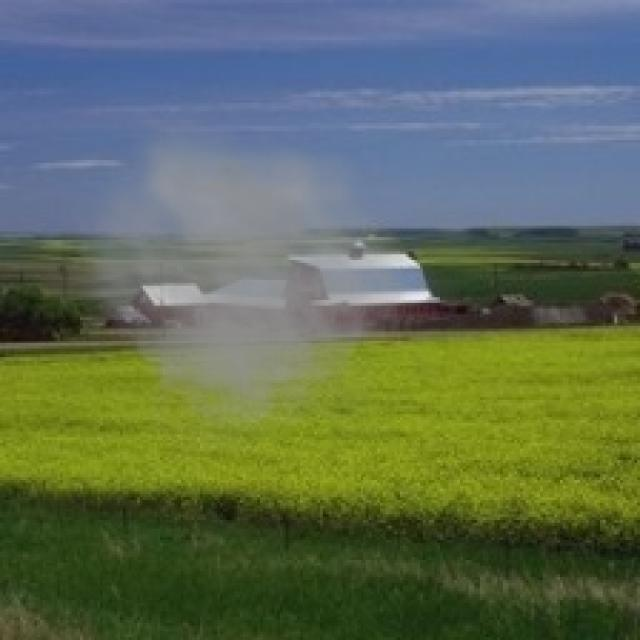Smoke: (57, 120, 426, 466)
